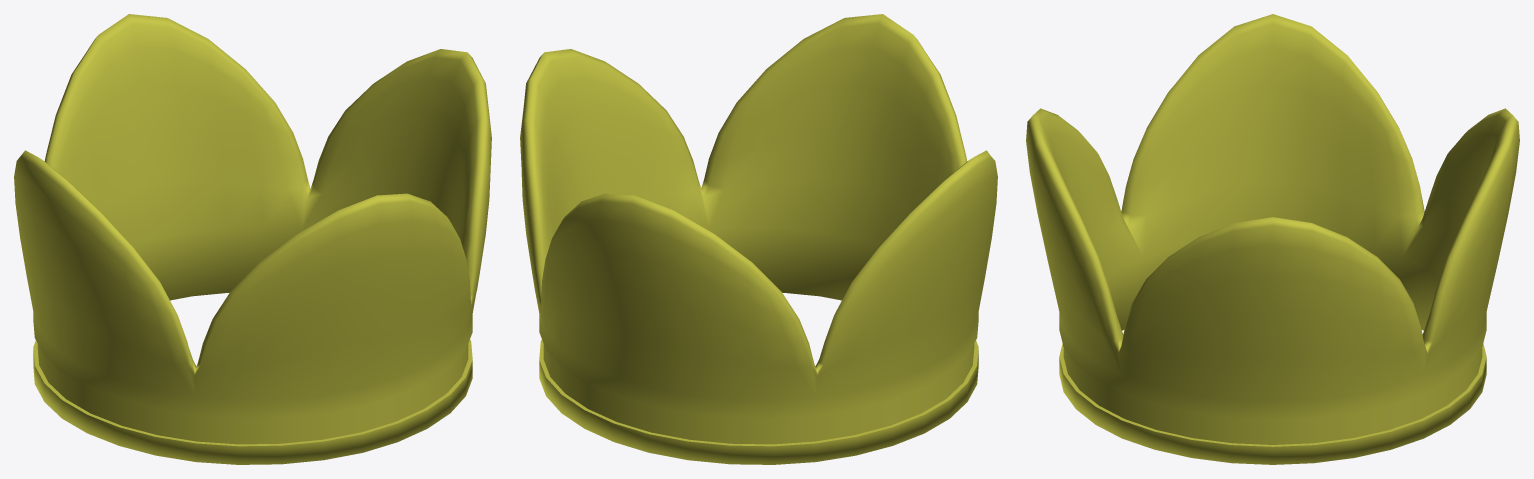
File: Crown.fbx
3 renders of one model, left to right at view 1: azimuth 30°, elevation 25°; view 2: azimuth 150°, elevation 25°; view 3: azimuth 270°, elevation 25°, orthographic. The views are drawn at different scales.
Parts seen in each view (by area): view 1: Crown; view 2: Crown; view 3: Crown.
Part boxes in pixels (x1=…): Crown: x1=14, y1=14, x2=491, y2=464; Crown: x1=520, y1=14, x2=997, y2=464; Crown: x1=1026, y1=14, x2=1519, y2=464.
Bounding box in the file's own units: 0.2224 × 0.1287 × 0.2224.
